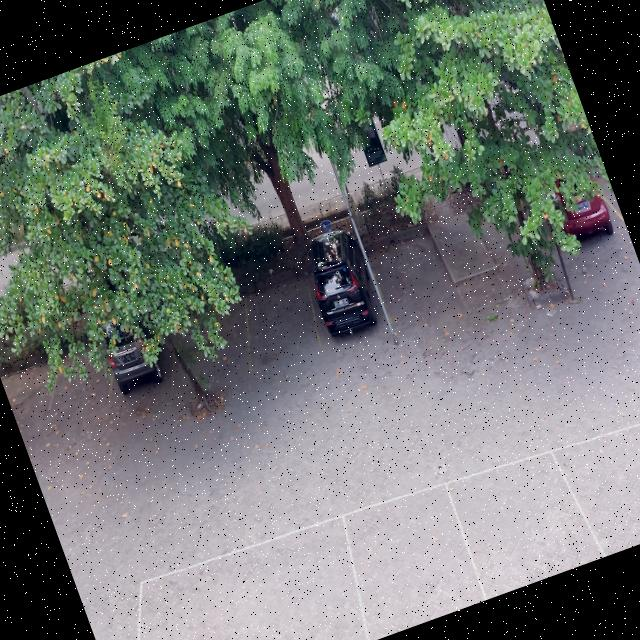empty: (364, 226, 464, 323), (244, 270, 320, 370)
occupied: (304, 230, 391, 348)
